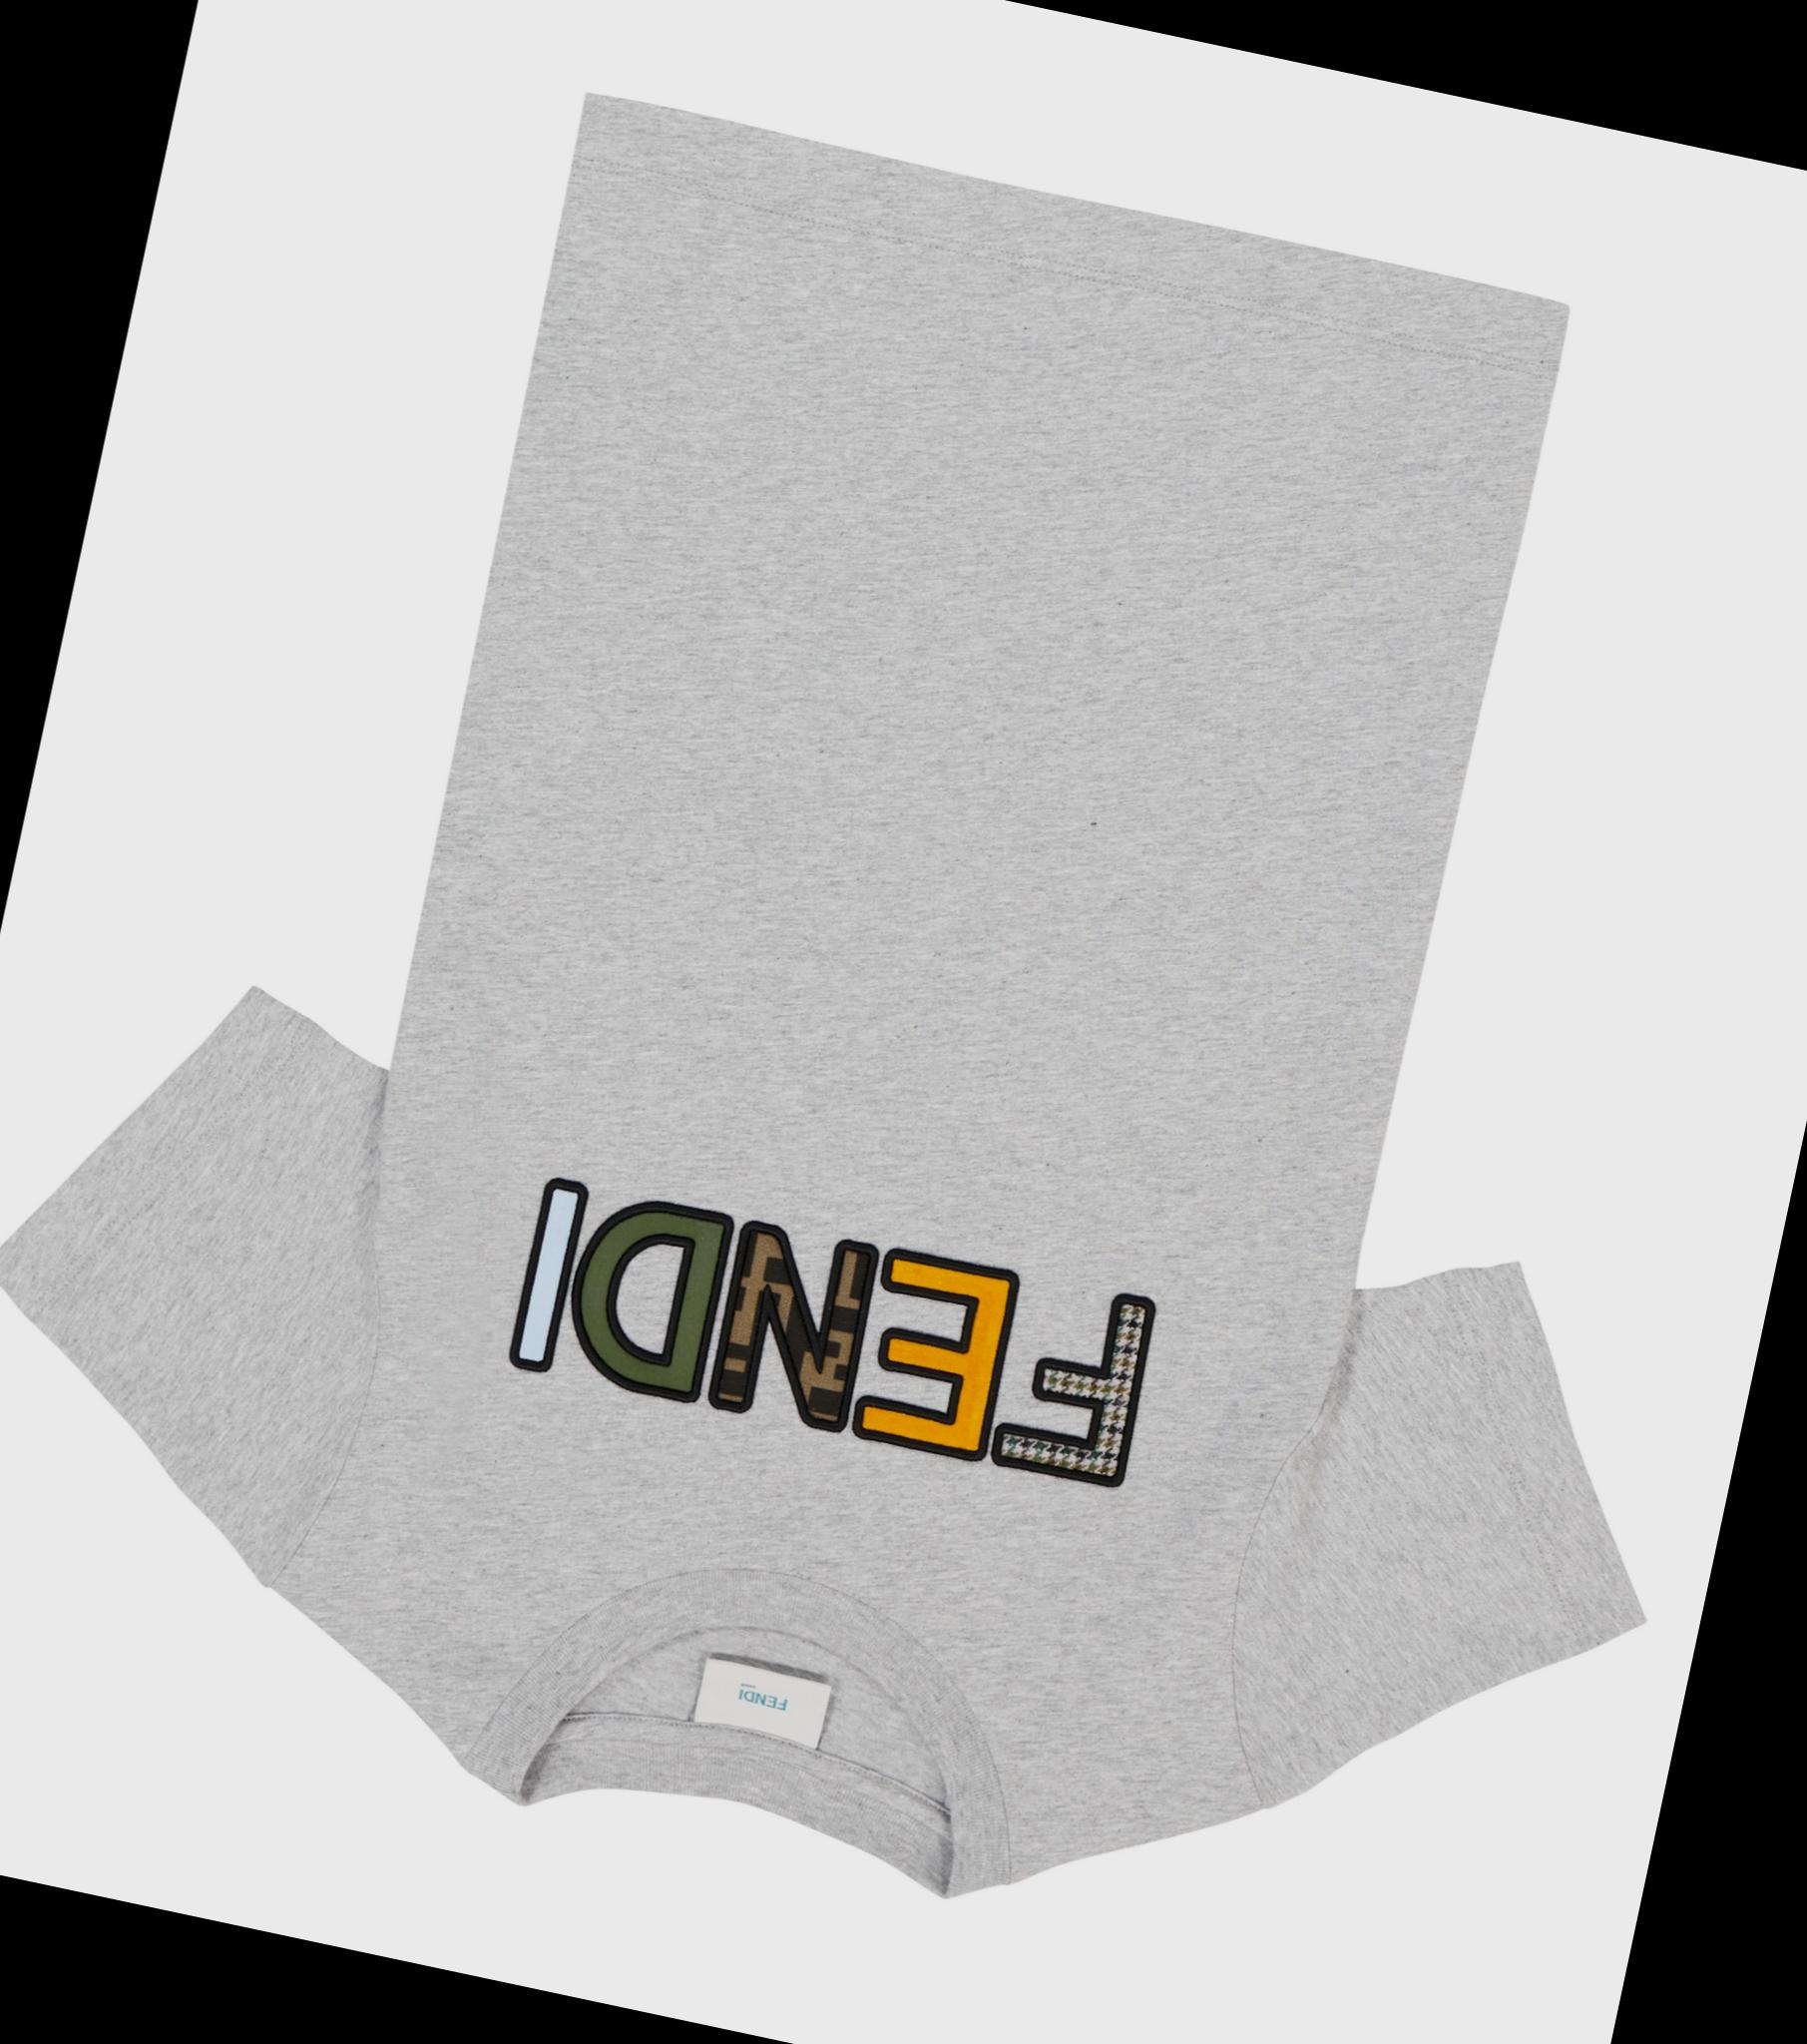FENDI: (504, 1168, 1163, 1498), (738, 1686, 787, 1711)
